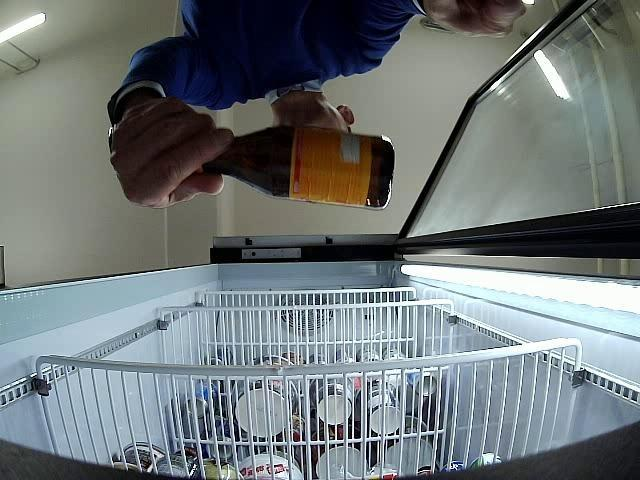17_vita500: (198, 125, 394, 211)
